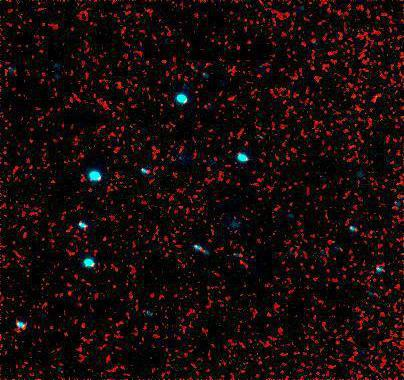star: (227, 250, 257, 280)
